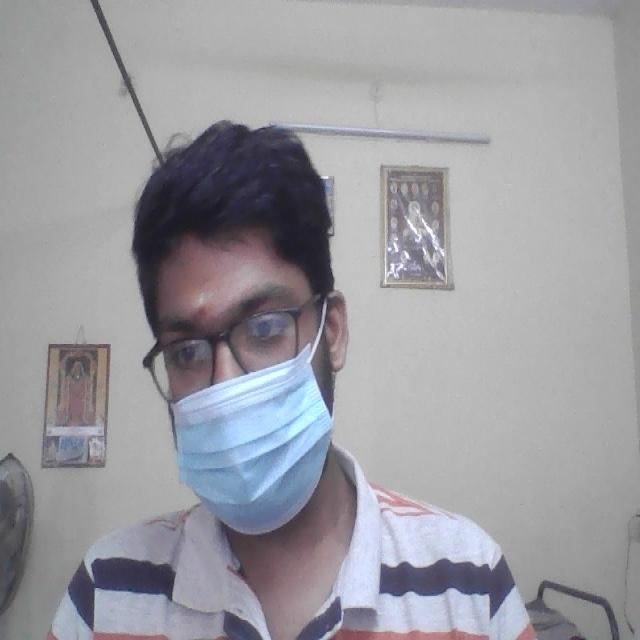Focused: (150, 245, 329, 504)
